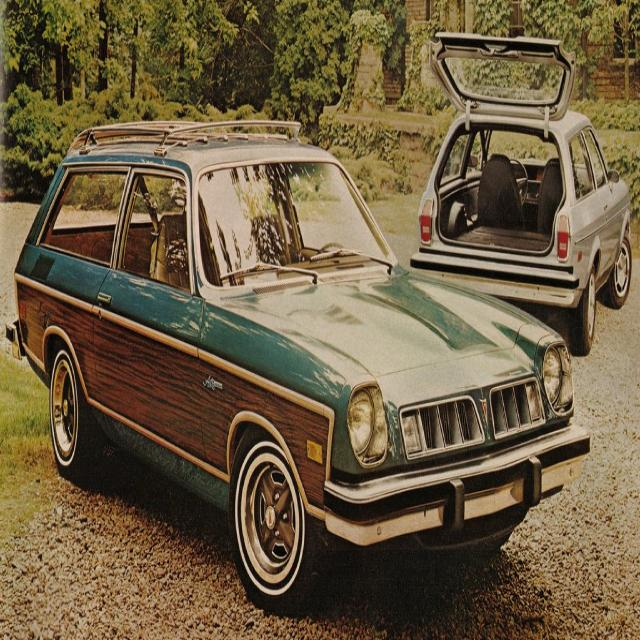other: (6, 116, 589, 616), (408, 31, 634, 362)
